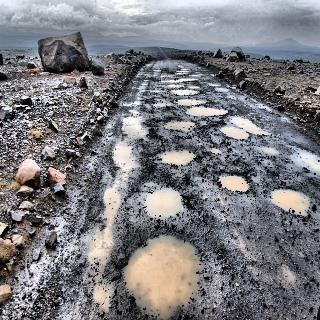pothole: (83, 112, 149, 319), (119, 232, 203, 320), (138, 70, 230, 119), (140, 187, 189, 221), (268, 183, 311, 219), (220, 115, 269, 144), (152, 146, 198, 170), (212, 169, 250, 195), (162, 115, 198, 134)
